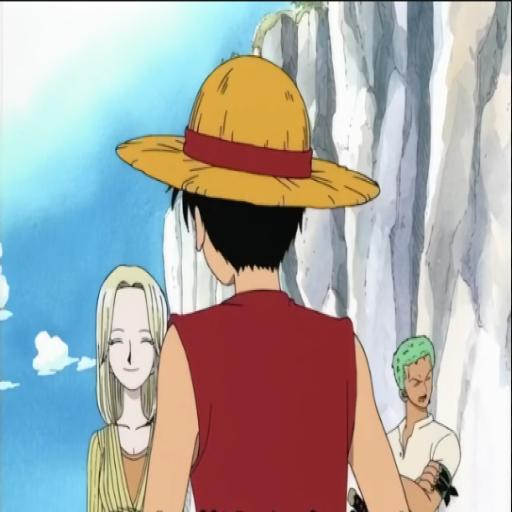Luffy: (130, 39, 373, 512)
Zoro: (369, 294, 477, 512)
